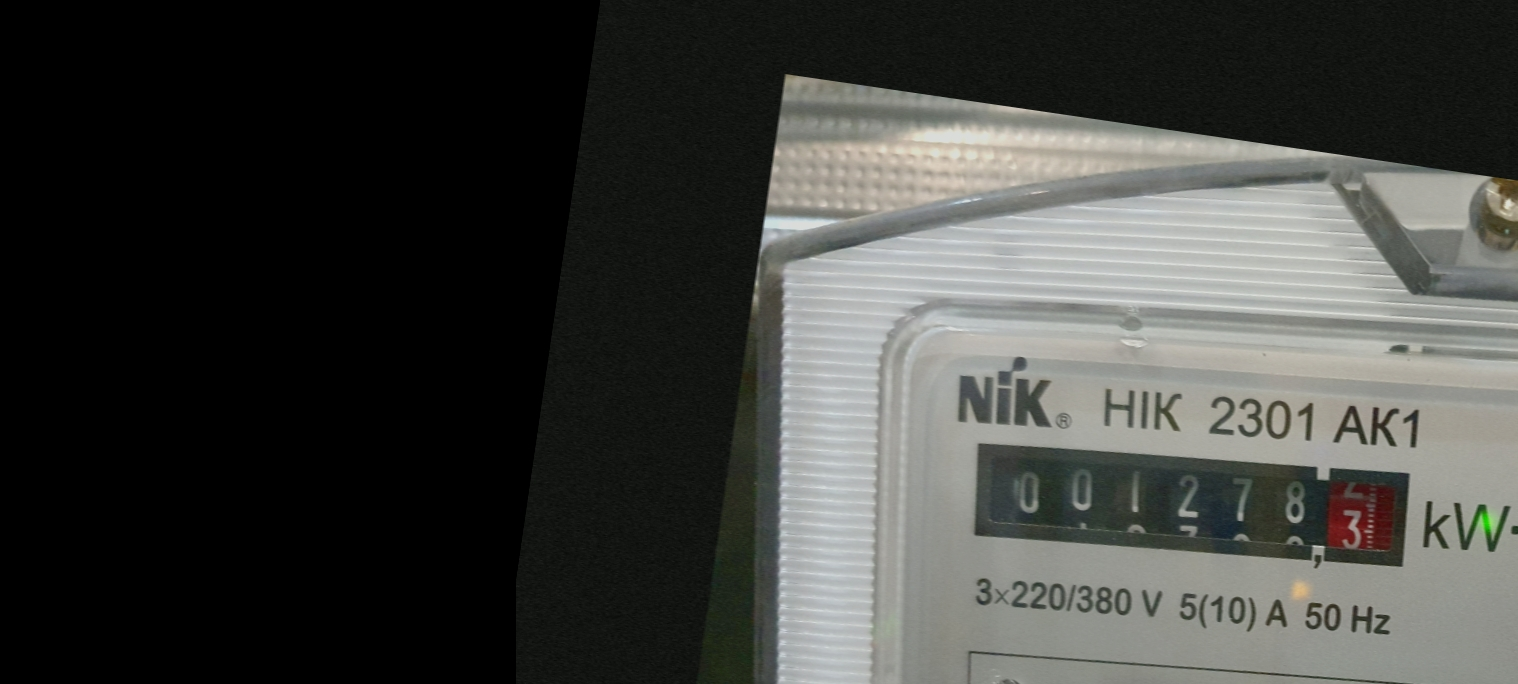0: (1012, 463, 1045, 514), (1064, 461, 1096, 511)
1: (1122, 463, 1147, 511)
2: (1171, 468, 1203, 518), (1339, 475, 1365, 498)
3: (1334, 502, 1366, 549)
7: (1224, 471, 1252, 520)
8: (1279, 475, 1309, 522)
screen: (948, 394, 1433, 608)
